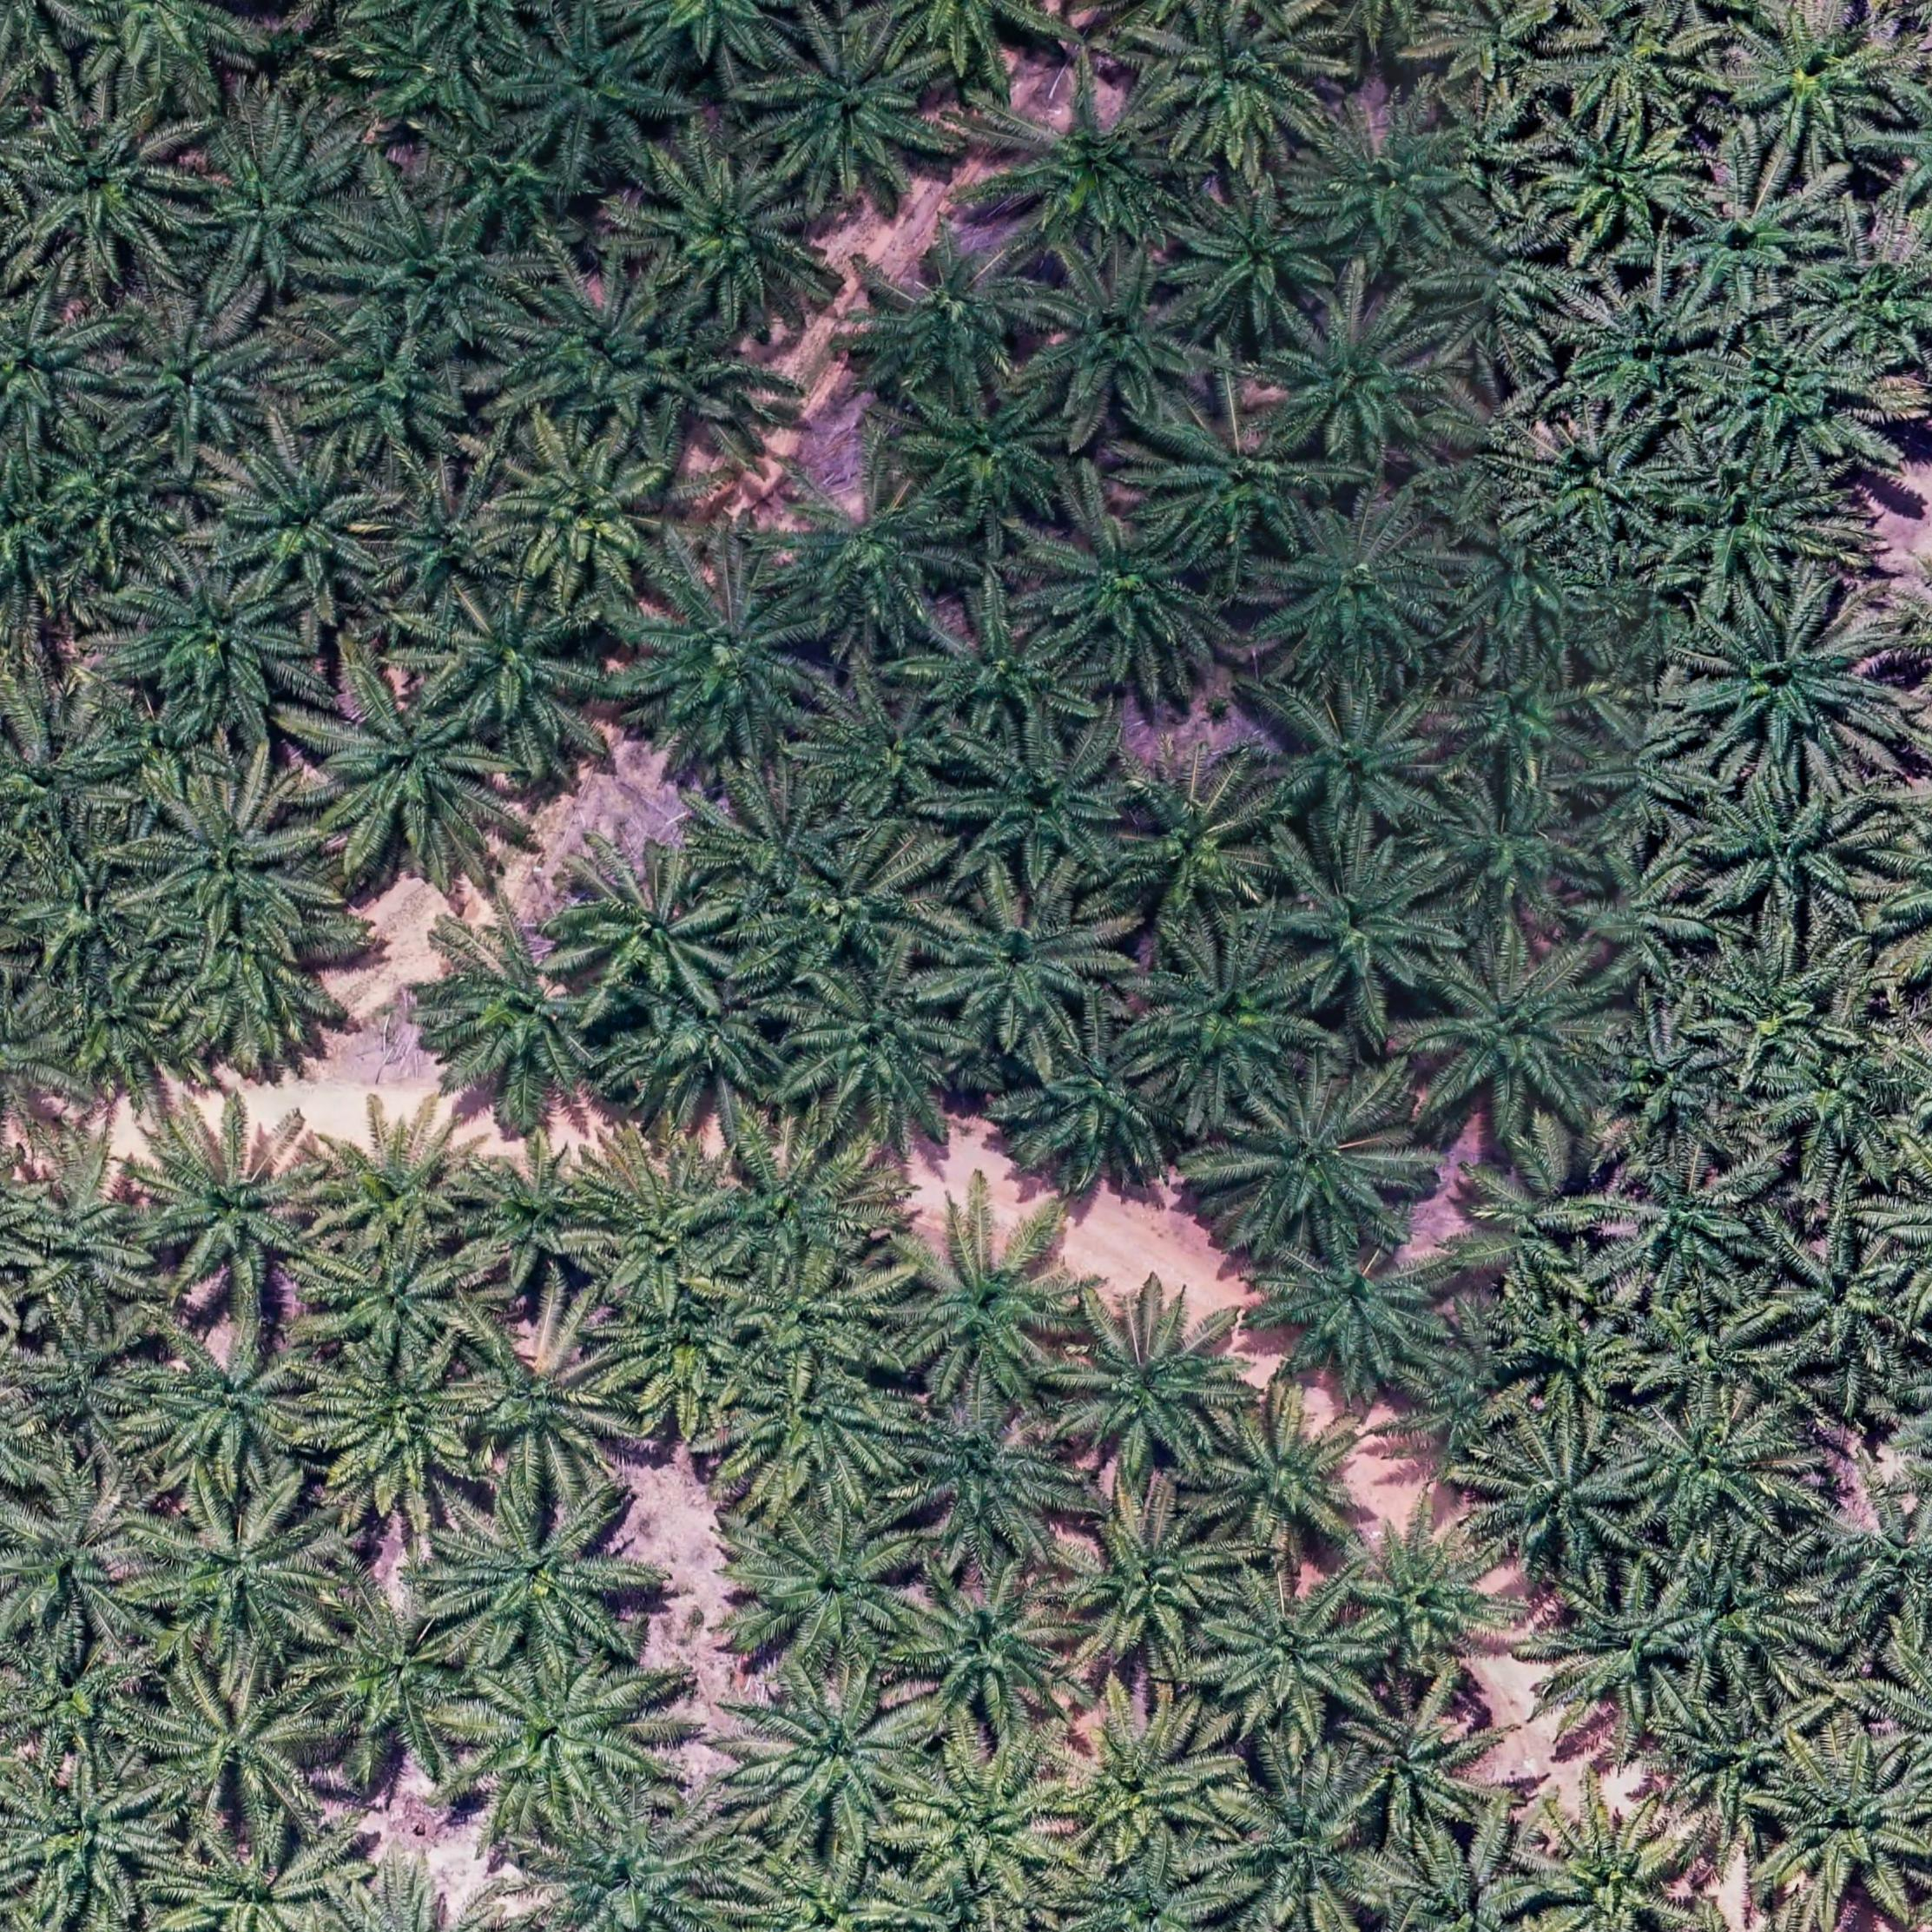palmtree: (617, 557, 832, 763), (425, 899, 623, 1113), (310, 671, 515, 874), (131, 1102, 334, 1306), (1412, 941, 1622, 1138), (886, 1201, 1090, 1403), (455, 1651, 672, 1838), (1210, 1072, 1422, 1260), (439, 1484, 646, 1674), (1690, 586, 1893, 775), (1260, 495, 1461, 685), (635, 140, 835, 329), (140, 1488, 341, 1672), (984, 83, 1187, 265), (1056, 1295, 1253, 1481), (1031, 495, 1230, 679), (846, 232, 1051, 409), (331, 193, 540, 366), (759, 18, 952, 205), (14, 94, 203, 283), (117, 552, 320, 727), (1131, 934, 1323, 1118), (1253, 1226, 1461, 1396), (741, 1665, 934, 1847), (140, 1661, 338, 1838), (784, 959, 975, 1141), (1056, 1497, 1246, 1677), (1023, 251, 1212, 430), (134, 1315, 327, 1490), (945, 727, 1143, 895), (1276, 842, 1461, 1021), (1295, 99, 1483, 276), (186, 127, 375, 303), (1267, 290, 1458, 464), (1051, 1700, 1244, 1872), (1258, 681, 1456, 847), (1141, 4, 1341, 168), (308, 1592, 488, 1775), (432, 584, 617, 761), (1721, 4, 1914, 173), (934, 881, 1127, 1051), (775, 469, 968, 639), (1647, 446, 1845, 610), (607, 966, 805, 1131), (140, 775, 327, 948), (490, 430, 676, 602), (741, 1507, 931, 1675), (1201, 1571, 1387, 1741), (150, 906, 349, 1065), (1102, 761, 1283, 934), (1759, 1732, 1932, 1913), (1212, 1757, 1394, 1928), (311, 1343, 495, 1513), (720, 1350, 918, 1507), (699, 1120, 886, 1286), (216, 442, 396, 614), (892, 1398, 1077, 1564), (455, 1315, 633, 1486), (1442, 1146, 1626, 1313), (308, 1099, 492, 1263), (899, 1564, 1079, 1730), (897, 1741, 1079, 1905), (1697, 777, 1891, 931), (1201, 1399, 1385, 1562), (1536, 1564, 1707, 1737), (499, 267, 676, 435), (563, 853, 743, 1017), (108, 295, 288, 460), (1171, 175, 1345, 345), (1338, 1511, 1514, 1677), (4, 1755, 175, 1925), (1003, 1024, 1184, 1185), (1695, 324, 1884, 476), (501, 12, 678, 175), (1481, 1421, 1658, 1583), (303, 324, 488, 478), (579, 1146, 747, 1316), (11, 1152, 168, 1330), (525, 1801, 740, 1932), (1152, 412, 1339, 561), (1697, 932, 1874, 1090), (1619, 1399, 1803, 1550), (913, 594, 1095, 741), (1426, 775, 1599, 929), (0, 1481, 152, 1656), (901, 375, 1074, 527), (1343, 1691, 1504, 1851), (1417, 216, 1585, 368), (1665, 161, 1829, 315), (455, 1138, 616, 1293), (773, 832, 943, 978), (1560, 846, 1718, 1003), (1513, 418, 1688, 559), (623, 306, 778, 464), (1534, 113, 1706, 255), (596, 1281, 759, 1430), (1562, 274, 1727, 421), (1652, 1688, 1799, 1852), (807, 685, 973, 830), (1433, 520, 1601, 663), (1610, 1154, 1776, 1297), (313, 1233, 485, 1371), (1435, 651, 1599, 793), (1523, 1803, 1702, 1932), (1753, 1037, 1918, 1177), (1660, 1545, 1815, 1691), (423, 111, 586, 251), (11, 846, 166, 989), (366, 472, 524, 614), (731, 1251, 902, 1380), (1548, 0, 1721, 127), (1587, 1014, 1741, 1157), (71, 0, 278, 106), (1764, 1224, 1916, 1368), (5, 1635, 159, 1776), (1499, 1297, 1654, 1435), (1629, 1295, 1798, 1421), (1568, 697, 1714, 840), (44, 959, 189, 1100), (157, 1824, 347, 1932), (1396, 1336, 1539, 1477), (0, 706, 134, 856), (1808, 1488, 1932, 1651), (16, 1311, 159, 1451), (0, 283, 119, 451), (1366, 1833, 1564, 1932), (697, 778, 853, 904), (48, 416, 184, 556), (354, 12, 499, 142), (0, 446, 94, 621), (1430, 0, 1575, 97), (1806, 257, 1932, 368)
